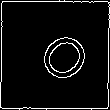O_SW: (21, 21, 89, 89)
